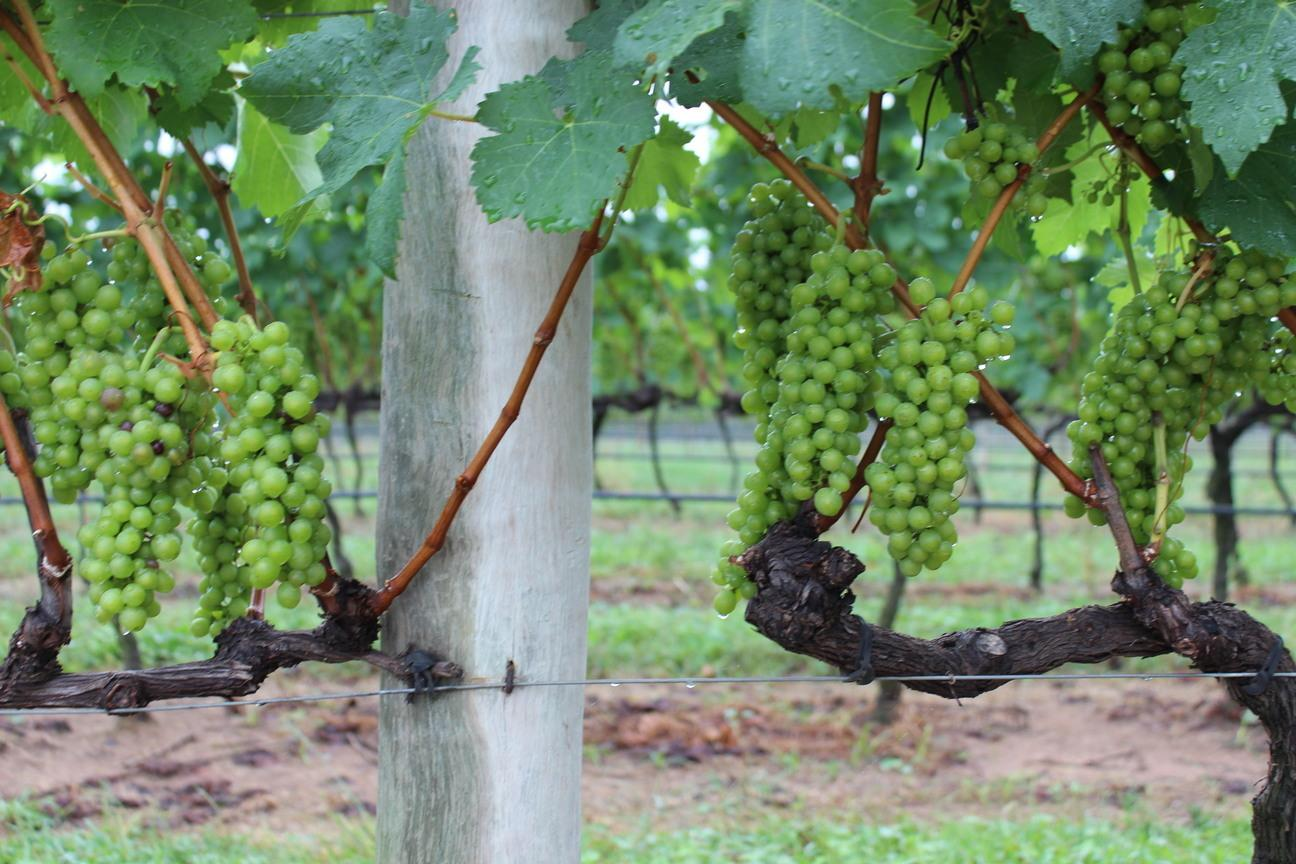leaf: (472, 49, 654, 229), (741, 0, 948, 113), (44, 0, 255, 105), (1175, 0, 1295, 174), (1198, 122, 1295, 255), (231, 101, 326, 216), (1011, 0, 1142, 82), (614, 0, 743, 75), (623, 117, 698, 209)
